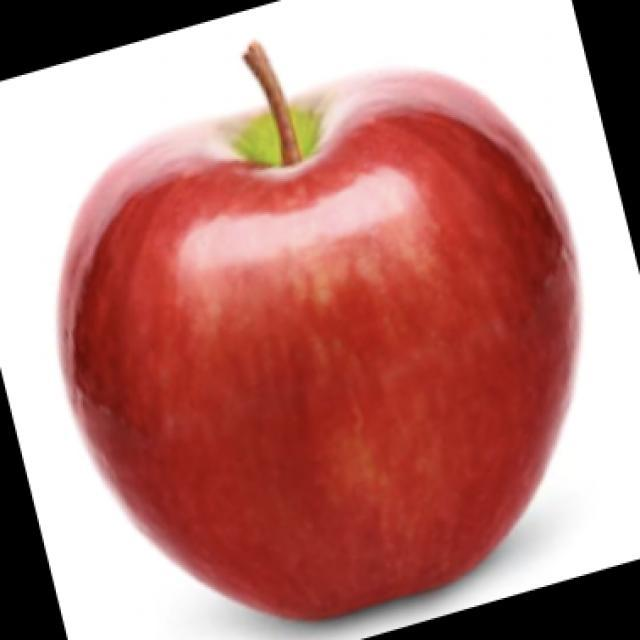Fresh Apple: (79, 68, 558, 610)
